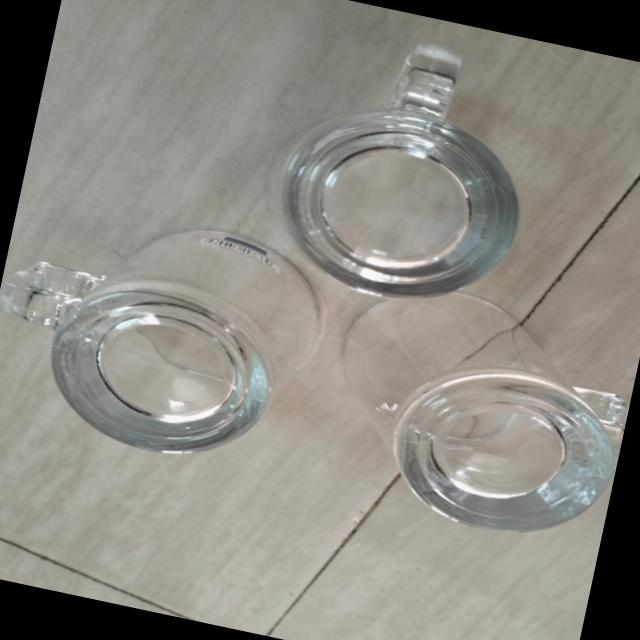glass-VX4N: (0, 192, 344, 497), (304, 264, 640, 574), (244, 16, 547, 323)
